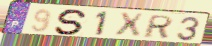1: (94, 11, 110, 37)
3: (175, 16, 201, 42)
9: (31, 8, 55, 33)
R: (141, 14, 175, 39)
S: (53, 8, 90, 36)
X: (114, 12, 146, 39)
